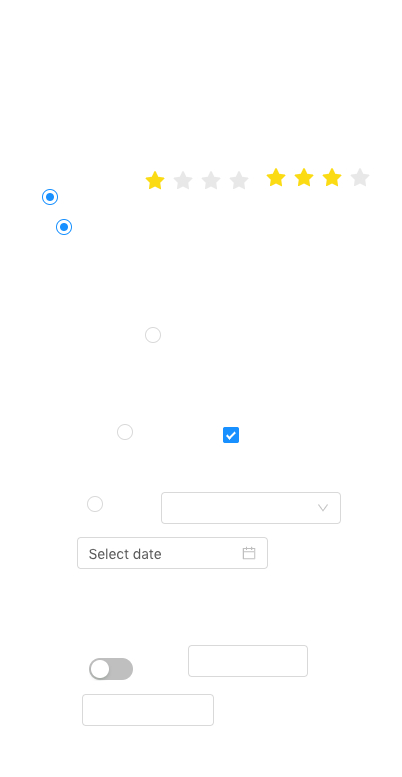Checkbox: (223, 424, 239, 445)
DatePicker: (77, 537, 268, 569)
Input: (82, 694, 214, 726), (188, 645, 308, 677)
Radio: (117, 421, 133, 441), (56, 216, 72, 236), (42, 186, 58, 206), (87, 493, 103, 513), (145, 324, 161, 344)
Rate: (266, 161, 386, 193), (145, 164, 265, 196)
Select: (161, 492, 341, 524)
Switch: (89, 657, 133, 681)
